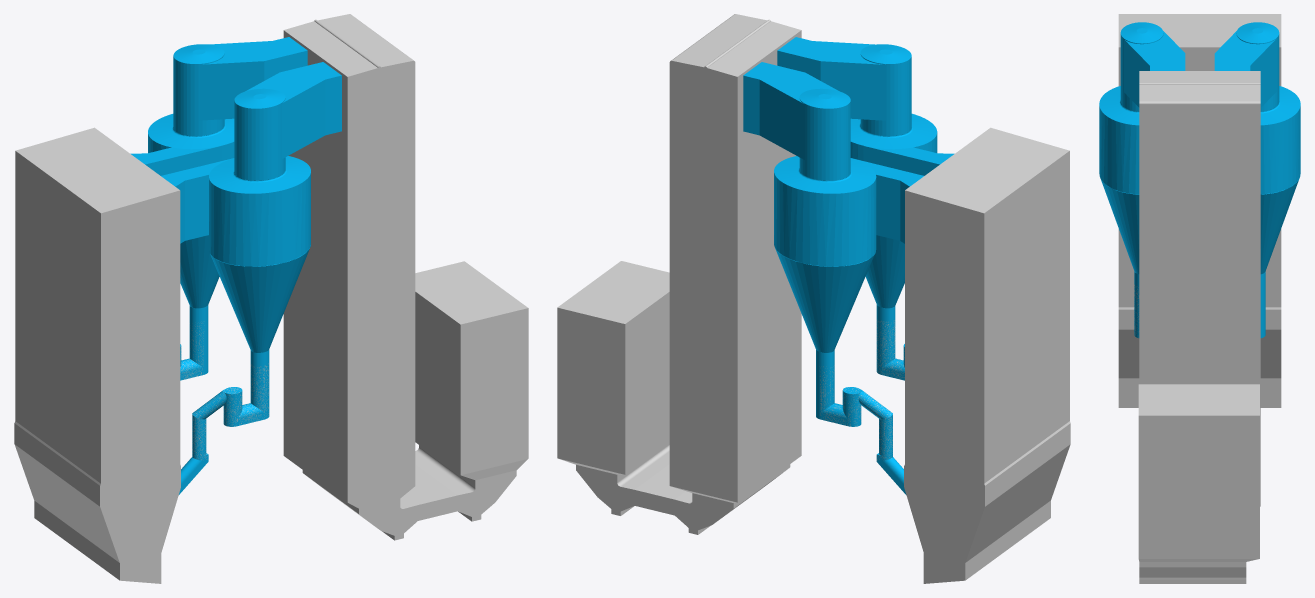
Rendered from wuhe.dae.
3 renders of one model, left to right at view 1: azimuth 30°, elevation 25°; view 2: azimuth 150°, elevation 25°; view 3: azimuth 270°, elevation 25°, orthographic. The views are drawn at different scales.
Parts seen in each view (by area): view 1: Component1, 组件_1 (×3), Component21, Component7, Component18, Component9, Component5, Component14, Component12, Component19, Component72, Component2 (+1 smaller); view 2: Component1, 组件_1 (×2), Component21, Component9, Component18, Component7, Component14, Component5, Component19, Component15, Component72, Component12 (+1 smaller); view 3: 组件_1 (×3), Component21, Component1, Component7, Component9, Component18, Component5, Component14, Component19, Component20, Component2, Component12.
Part boxes in pixels (x1,y1,x2,y2): Component1: (14,127,180,583); 组件_1 (×3): (283,14,494,535); Component21: (415,261,528,475); Component7: (161,88,310,352); Component18: (283,307,415,502); Component9: (130,44,234,308); Component5: (199,37,307,120); Component14: (245,62,341,158); Component12: (192,363,269,426); Component19: (415,445,516,511); Component72: (302,470,417,530); Component2: (189,318,208,374); Component1: (904,127,1070,583); 组件_1 (×2): (635,14,801,515); Component21: (557,261,669,474); Component9: (774,88,923,352); Component18: (669,307,801,502); Component7: (850,44,954,308); Component14: (777,37,885,120); Component5: (743,62,838,159); Component19: (576,442,669,505); Component15: (819,364,892,426); Component72: (674,464,790,524); Component12: (876,318,904,380); 组件_1 (×3): (1138,71,1260,579); Component21: (1138,384,1259,558); Component1: (1118,14,1281,407); Component7: (1099,22,1163,274); Component9: (1236,22,1300,274); Component18: (1139,363,1260,506); Component5: (1214,31,1276,107); Component14: (1124,31,1185,107); Component19: (1139,562,1246,577); Component20: (1139,579,1246,583); Component2: (1260,284,1265,338); Component12: (1134,284,1139,338).
Size of the model in its own units: 3.83 by 1.6 by 3.98.
